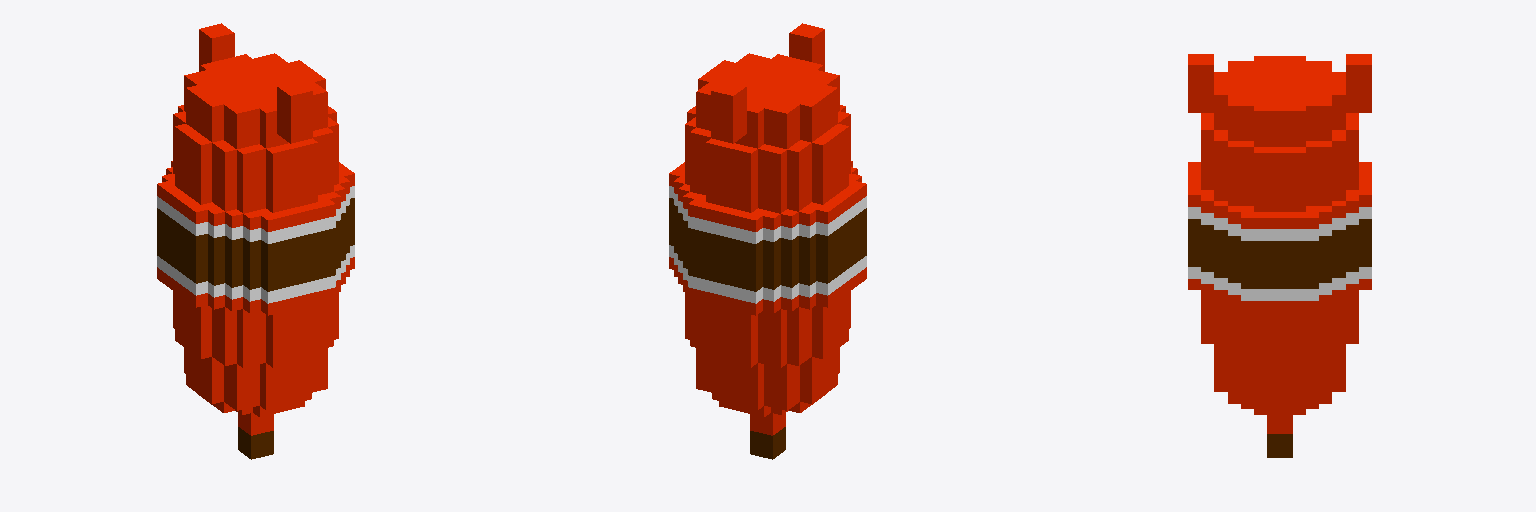
3 views of the same model, side by side, from view 1: azimuth 30°, elevation 25°; view 2: azimuth 150°, elevation 25°; view 3: azimuth 270°, elevation 25° (orthographic).
Visible parts, largest first — view 1: plataformas-2; view 2: plataformas-2; view 3: plataformas-2.
Part boxes in pixels (x1,y1,x2,y2): plataformas-2: (157,23,354,459); plataformas-2: (669,23,866,459); plataformas-2: (1188,54,1371,457).
Size of the model in its own units: 1.4 by 3.3 by 1.4.
Materials: 1 (1 with a texture image).